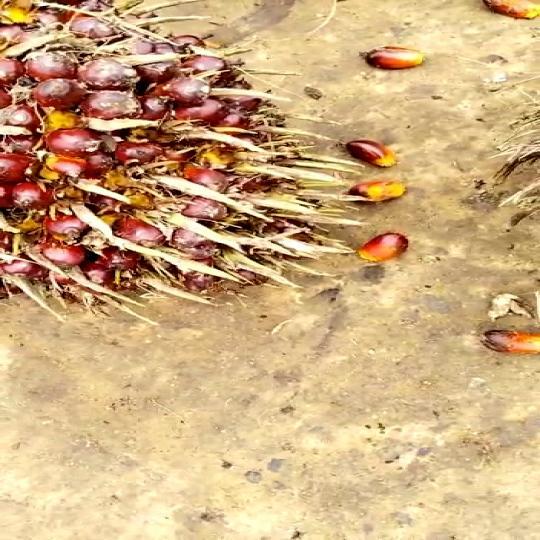masak: (0, 0, 344, 321)
